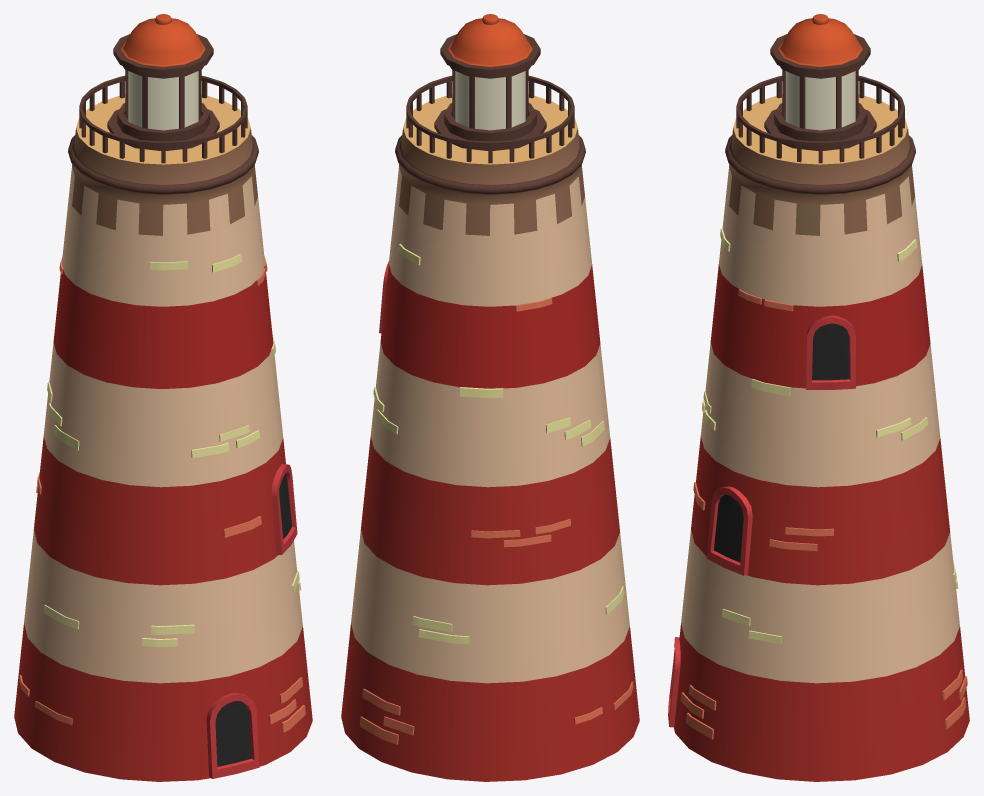
Rendered from Light house.fbx.
3 views of the same model, side by side, from view 1: azimuth 30°, elevation 25°; view 2: azimuth 150°, elevation 25°; view 3: azimuth 270°, elevation 25° (orthographic).
Visible parts, largest first — view 1: light_house; view 2: light_house; view 3: light_house.
Part boxes in pixels (x1,y1,x2,y2): light_house: (14, 14, 312, 781); light_house: (341, 14, 639, 781); light_house: (668, 14, 969, 781).
Size of the model in its own units: 16.85 by 43.72 by 17.03.
Materials: 1 (1 with a texture image).
